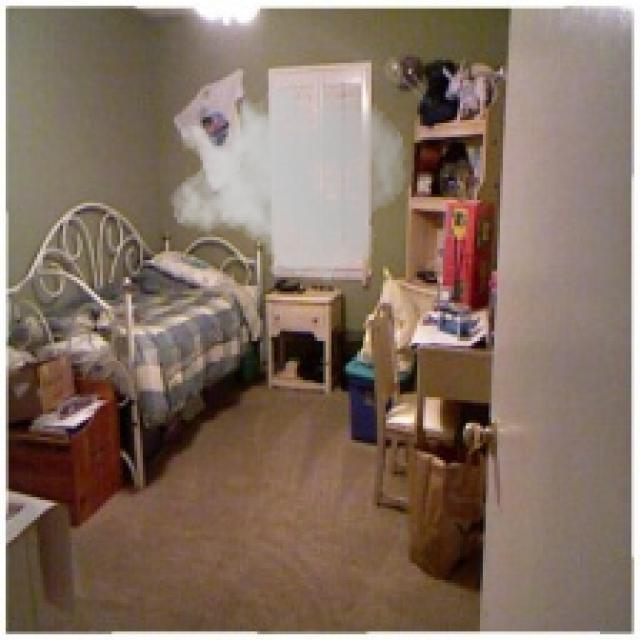Smoke: (168, 62, 408, 288)
